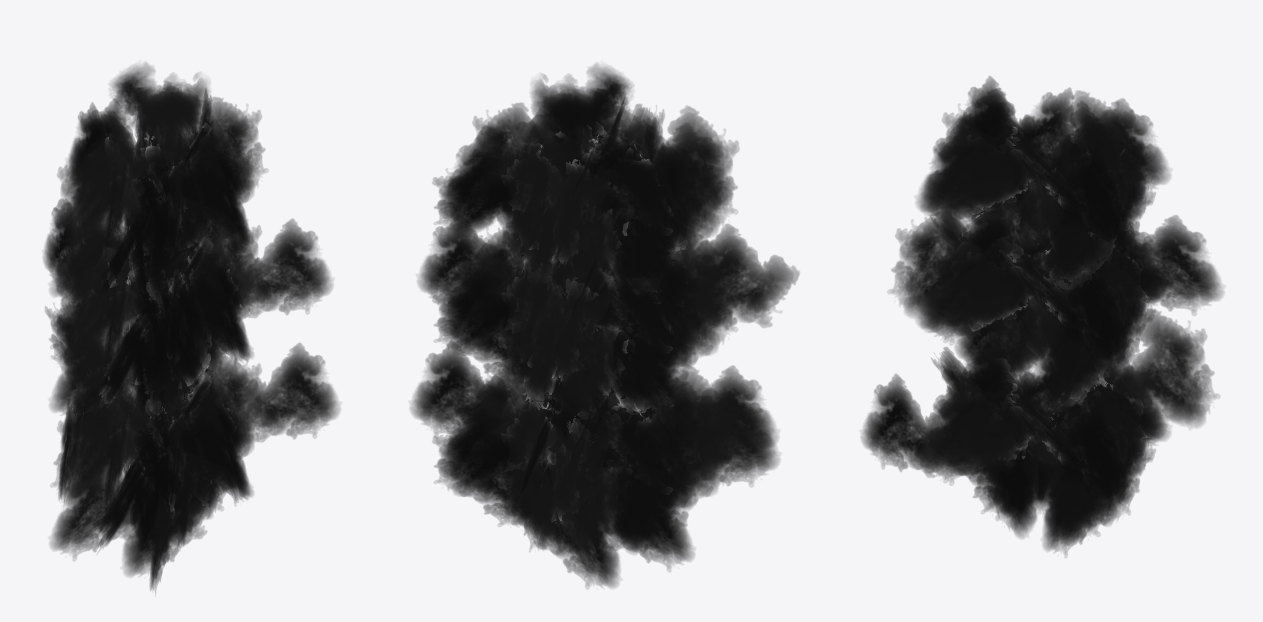
Rendered from tvman_smoke.glb.
3 renders of one model, left to right at view 1: azimuth 30°, elevation 25°; view 2: azimuth 150°, elevation 25°; view 3: azimuth 270°, elevation 25°, orthographic. The views are drawn at different scales.
Parts seen in each view (by area): view 1: smoke.111, smoke.105, smoke.092, smoke.057, smoke.075, smoke.022, smoke.004, smoke.101, smoke.031, smoke.039, smoke.107, smoke.074 (+56 smaller); view 2: smoke.106, smoke.112, smoke.003, smoke.039, smoke.004, smoke.011, smoke.038, smoke.075, smoke.074, smoke.104, smoke.083, smoke.073 (+57 smaller); view 3: smoke.109, smoke.079, smoke.009, smoke.044, smoke.027, smoke.097, smoke.108, smoke.062, smoke.110, smoke.107, smoke.104, smoke.069 (+46 smaller).
Boxes of the visible parts, <box> form: smoke.111: <box>234,343,339,441</box>; smoke.105: <box>228,219,332,317</box>; smoke.092: <box>51,131,139,251</box>; smoke.057: <box>51,248,139,367</box>; smoke.075: <box>110,63,209,137</box>; smoke.022: <box>51,388,139,505</box>; smoke.004: <box>50,468,134,560</box>; smoke.101: <box>180,122,238,251</box>; smoke.031: <box>180,376,238,505</box>; smoke.039: <box>50,330,134,416</box>; smoke.107: <box>155,268,208,394</box>; smoke.074: <box>50,215,134,298</box>; smoke.106: <box>682,224,799,331</box>; smoke.112: <box>660,366,778,463</box>; smoke.003: <box>564,398,671,502</box>; smoke.039: <box>603,337,694,430</box>; smoke.004: <box>604,479,694,571</box>; smoke.011: <box>527,457,627,558</box>; smoke.038: <box>589,257,671,361</box>; smoke.075: <box>531,63,632,138</box>; smoke.074: <box>603,220,694,312</box>; smoke.104: <box>432,151,517,236</box>; smoke.083: <box>510,128,606,247</box>; smoke.073: <box>570,139,671,244</box>; smoke.109: <box>1112,309,1219,427</box>; smoke.079: <box>916,126,1038,225</box>; smoke.009: <box>916,382,1038,482</box>; smoke.044: <box>916,242,1038,342</box>; smoke.027: <box>1040,404,1131,504</box>; smoke.097: <box>1040,148,1131,247</box>; smoke.108: <box>1144,215,1223,315</box>; smoke.062: <box>1040,265,1131,363</box>; smoke.110: <box>861,374,941,477</box>; smoke.107: <box>888,211,968,317</box>; smoke.104: <box>1084,141,1155,268</box>; smoke.069: <box>1084,258,1155,385</box>.
Bounding box in the file's own units: 6.88 × 10.02 × 6.43.
Materials: 2 (2 with a texture image).
